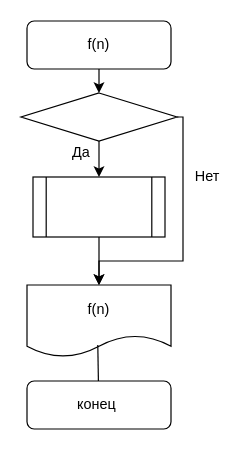
The diagram is 252 pixels wide and 450 high, and some of its shapes have lost their labels. Each missing label, with the box of its shape:
f(n - 1) + f(n - 2): (32, 176, 165, 237)
n > 2: (20, 92, 177, 141)
